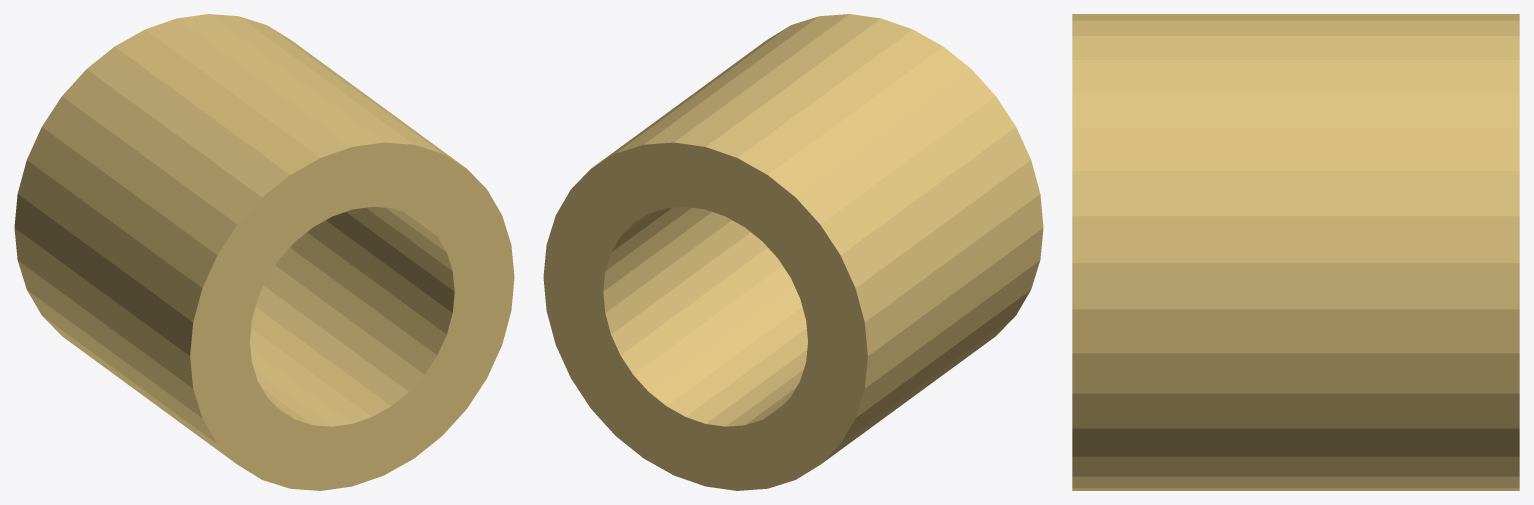
File: M2InsertEnvelopeLeft.glb
3 renders of one model, left to right at view 1: azimuth 30°, elevation 25°; view 2: azimuth 150°, elevation 25°; view 3: azimuth 270°, elevation 25°, orthographic. The views are drawn at different scales.
Parts seen in each view (by area): view 1: geometry_0; view 2: geometry_0; view 3: geometry_0.
Boxes of the visible parts, left/top/right/bottom form: geometry_0: left=14, top=14, right=514, bottom=490; geometry_0: left=543, top=14, right=1043, bottom=490; geometry_0: left=1072, top=14, right=1519, bottom=490.
Size of the model in its own units: 3.2 by 3.2 by 3.
